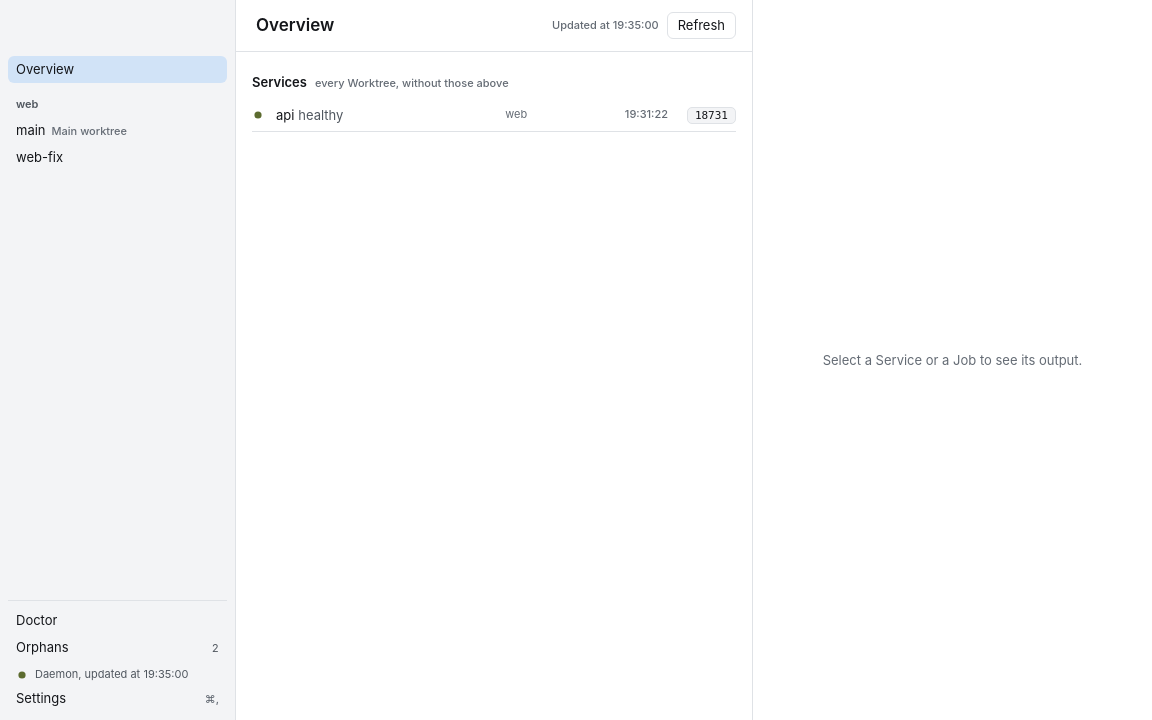
Test case: the Orphans screen › draws no red line in a sheet whose Orphans drop no data
Click the button "Orphans 2": point(118, 648) [8,634,227,661]
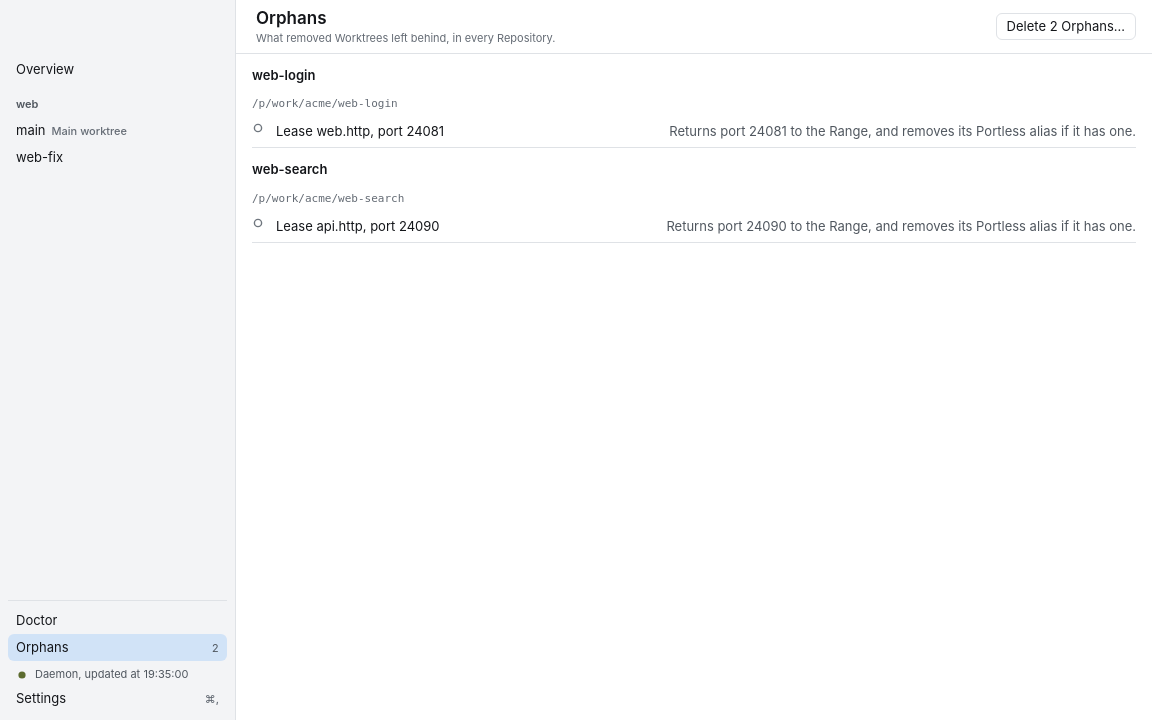
Expected: the heading "Orphans" is shown, [256,6,326,31]
Click the button "Delete 2 Orphans…": point(1066, 26) [996,13,1136,40]
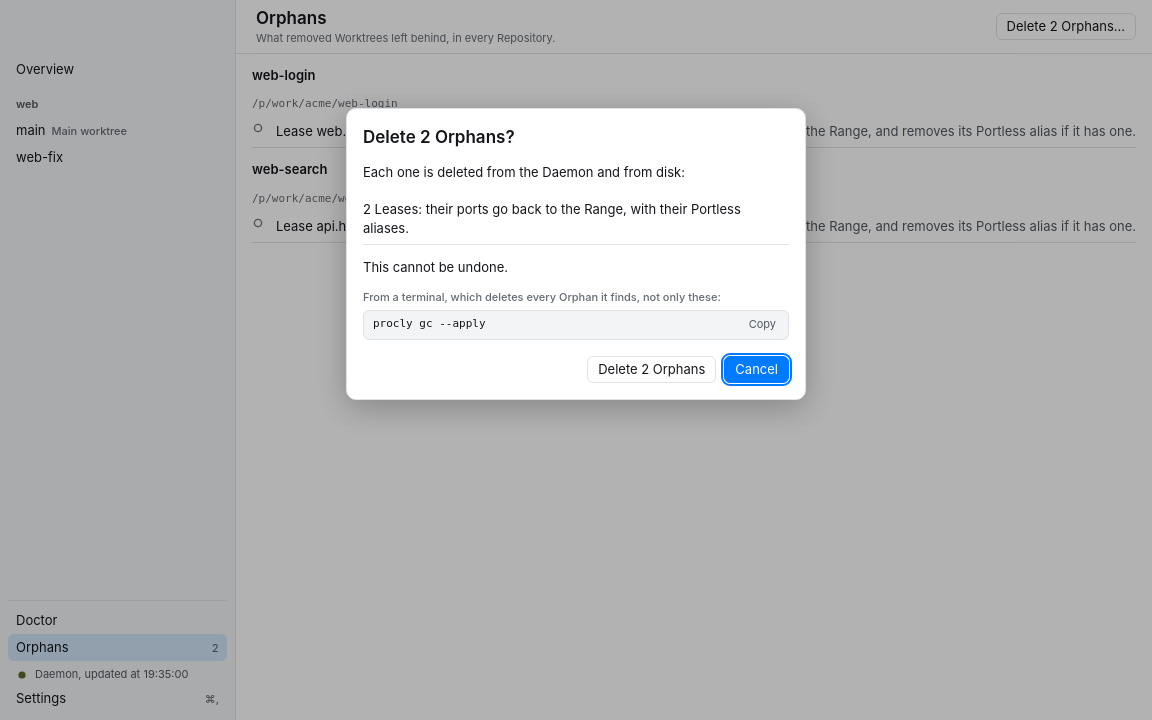
Expected: the text "This cannot be undone." is shown, [363,259,508,275]
